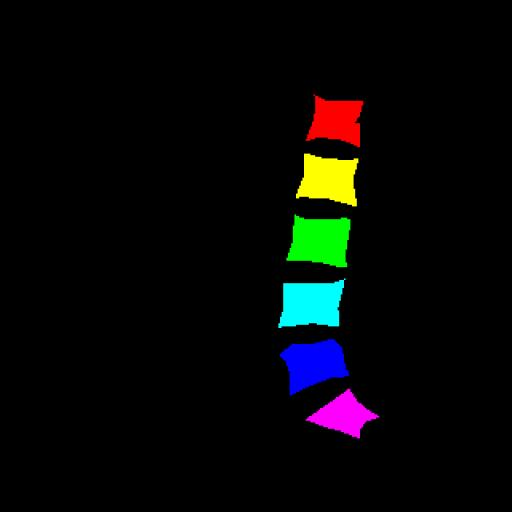L1: (306, 96, 363, 146)
L2: (296, 153, 358, 206)
L3: (288, 215, 350, 267)
L4: (278, 280, 344, 328)
L5: (280, 339, 349, 394)
S1: (306, 389, 379, 438)
